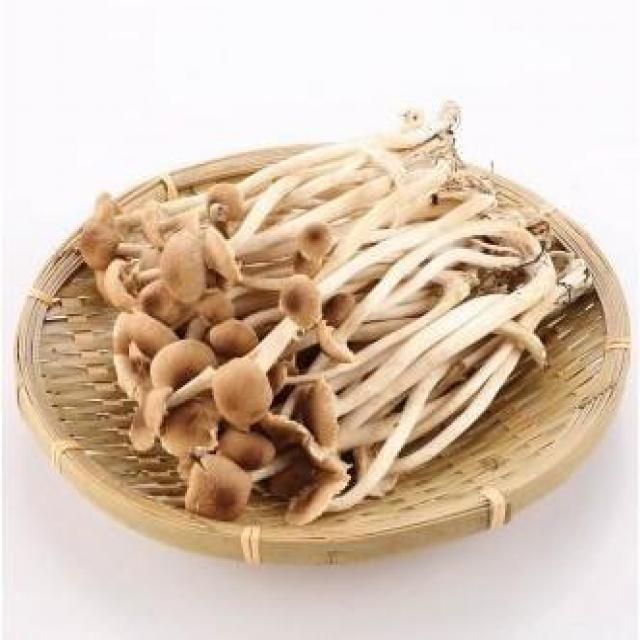Agrocybe aegerita: (86, 122, 594, 519)
